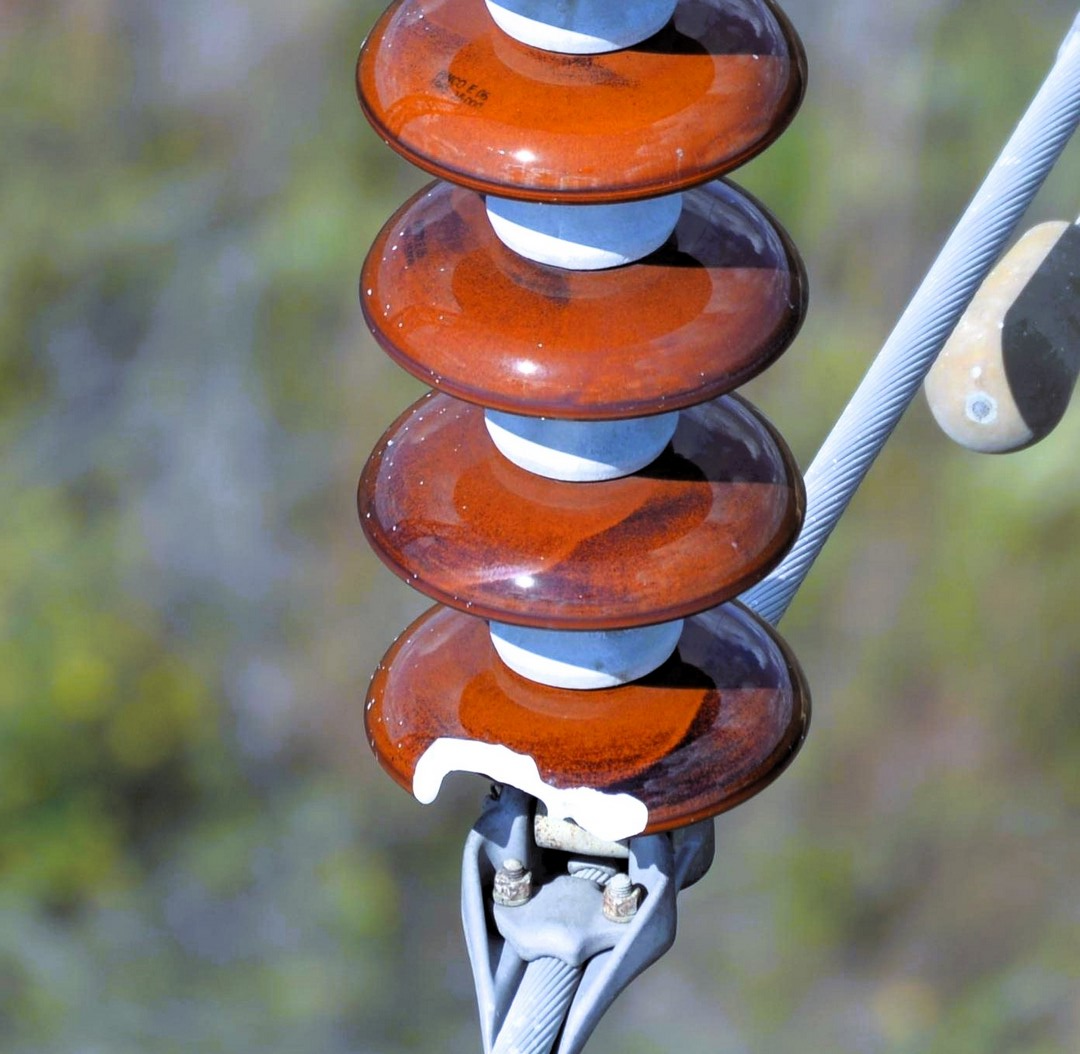insulator breakage: (338, 580, 821, 843)
